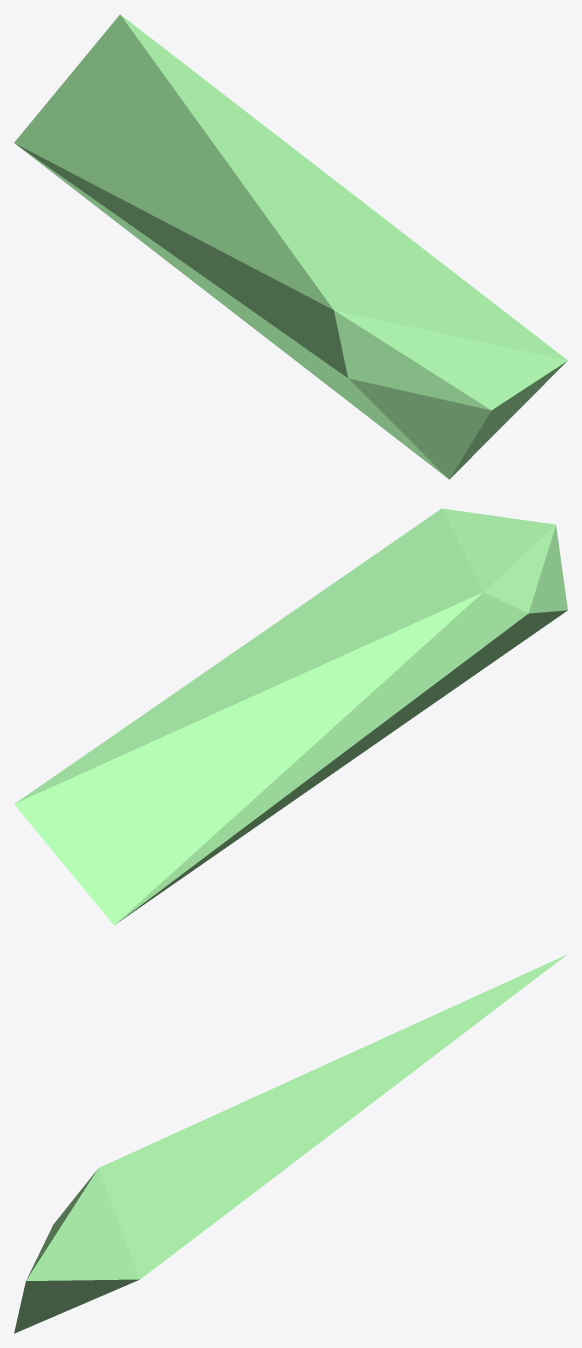
Rendered from UMIRobot_UMIRobot_link_2_convex_coll_19.dae.
3 views of the same model, one above another, from view 1: azimuth 30°, elevation 25°; view 2: azimuth 150°, elevation 25°; view 3: azimuth 330°, elevation 25° (orthographic). The views are drawn at different scales.
Visible parts, largest first — view 1: node; view 2: node; view 3: node.
Part boxes in pixels (x1,y1,x2,y2): node: (14, 14, 567, 479); node: (14, 508, 567, 925); node: (14, 955, 566, 1333).
Bounding box in the file's own units: 0.00865 × 0.00535 × 0.0446.
